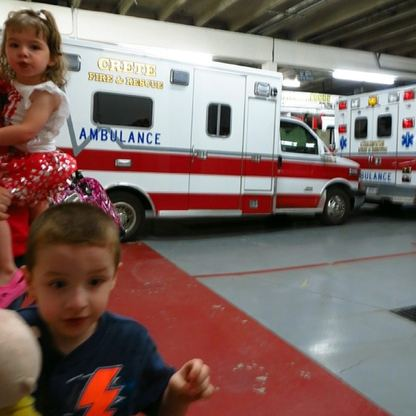ambulance: (0, 31, 362, 241), (334, 83, 416, 210)
